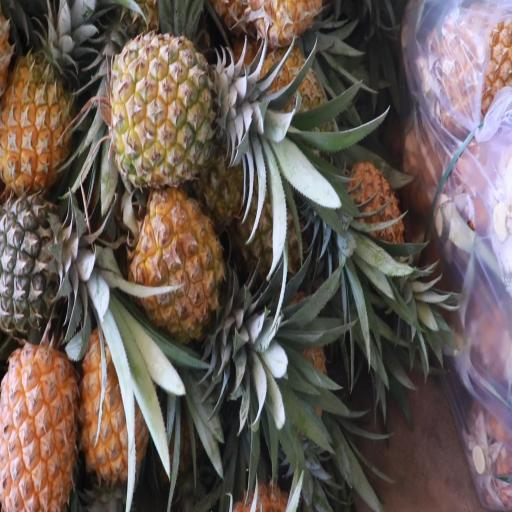Pineapple - v8 v1: (108, 32, 304, 195), (131, 174, 236, 358), (0, 14, 90, 194), (0, 335, 82, 512), (78, 328, 149, 492)
